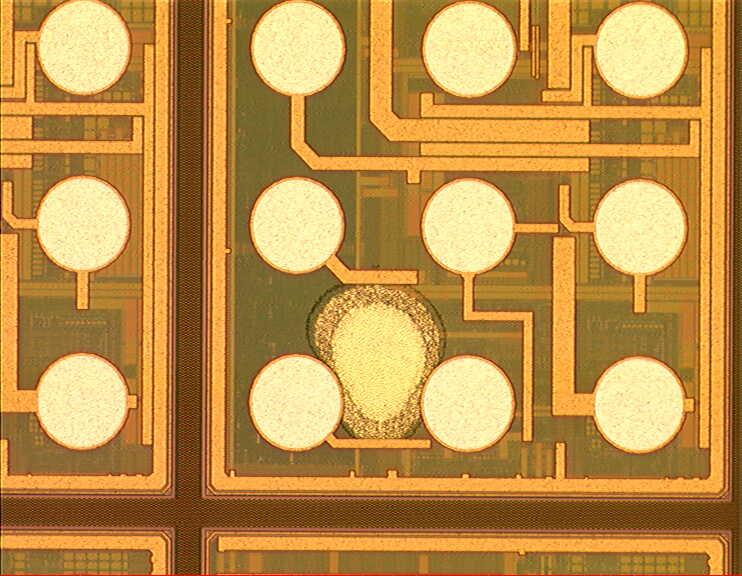BLOCK ETCH: (303, 276, 449, 449)
